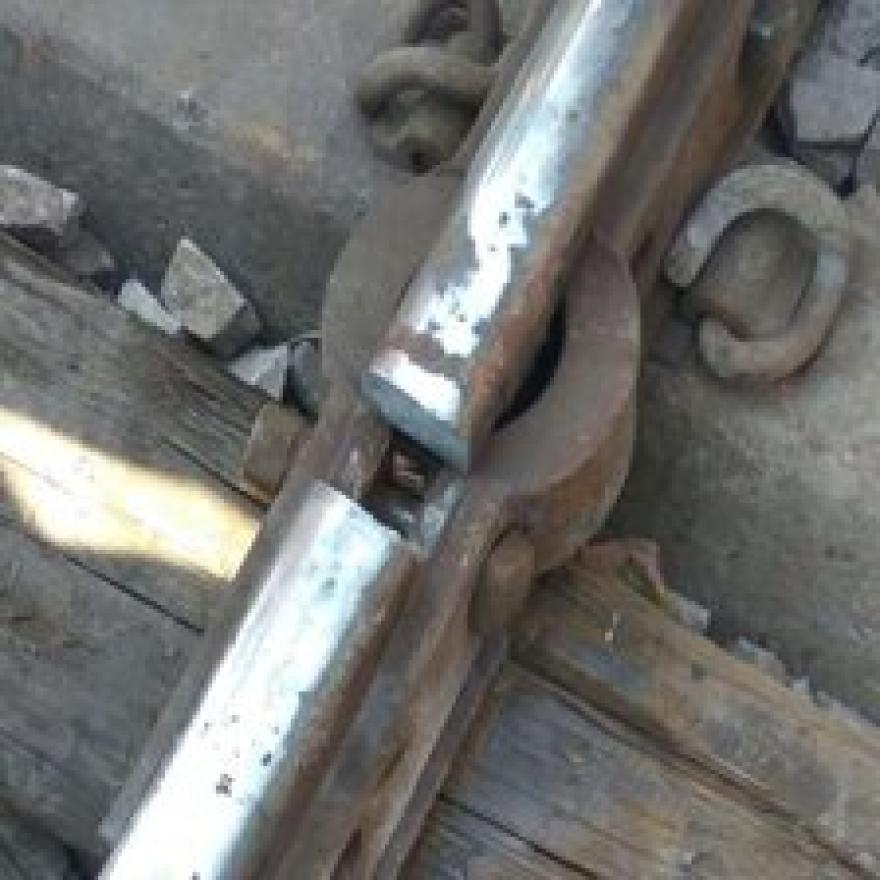railway-gap: (254, 338, 530, 625)
